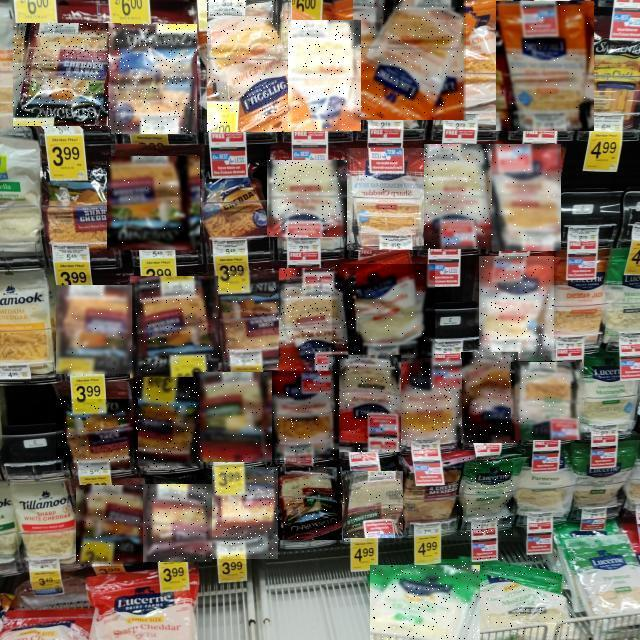Cheese: (354, 0, 468, 120), (497, 1, 595, 131), (14, 24, 122, 130), (207, 0, 292, 132), (111, 24, 197, 134), (335, 264, 435, 358), (130, 276, 218, 378), (461, 557, 573, 637), (107, 156, 200, 250), (280, 268, 360, 376), (210, 271, 294, 370), (370, 565, 480, 640), (288, 20, 361, 131), (480, 256, 556, 361), (347, 148, 424, 250), (492, 144, 561, 251), (424, 144, 494, 249), (195, 372, 273, 462), (56, 286, 132, 376), (331, 355, 401, 452), (267, 160, 347, 237), (134, 378, 202, 468), (213, 467, 279, 559), (272, 372, 339, 460), (56, 399, 138, 470), (512, 362, 584, 440), (143, 484, 213, 562), (76, 486, 143, 566), (461, 352, 518, 443), (400, 358, 462, 440), (274, 467, 342, 540), (457, 458, 513, 536), (343, 472, 403, 542)
